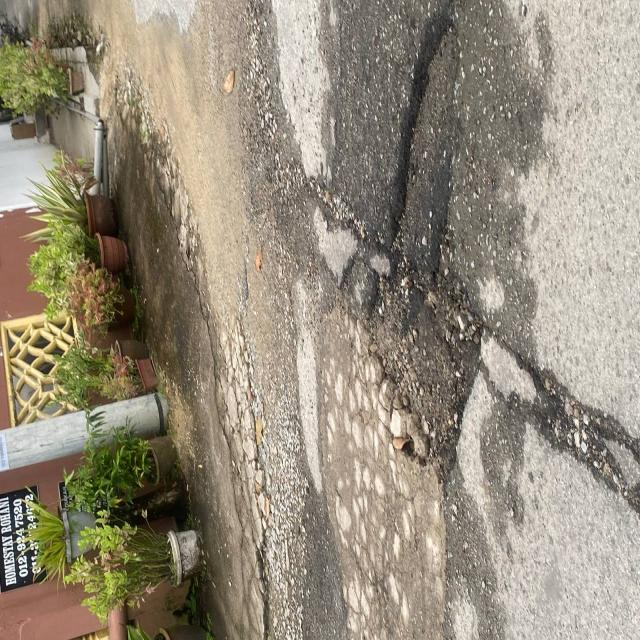pothole: (301, 0, 572, 592)
